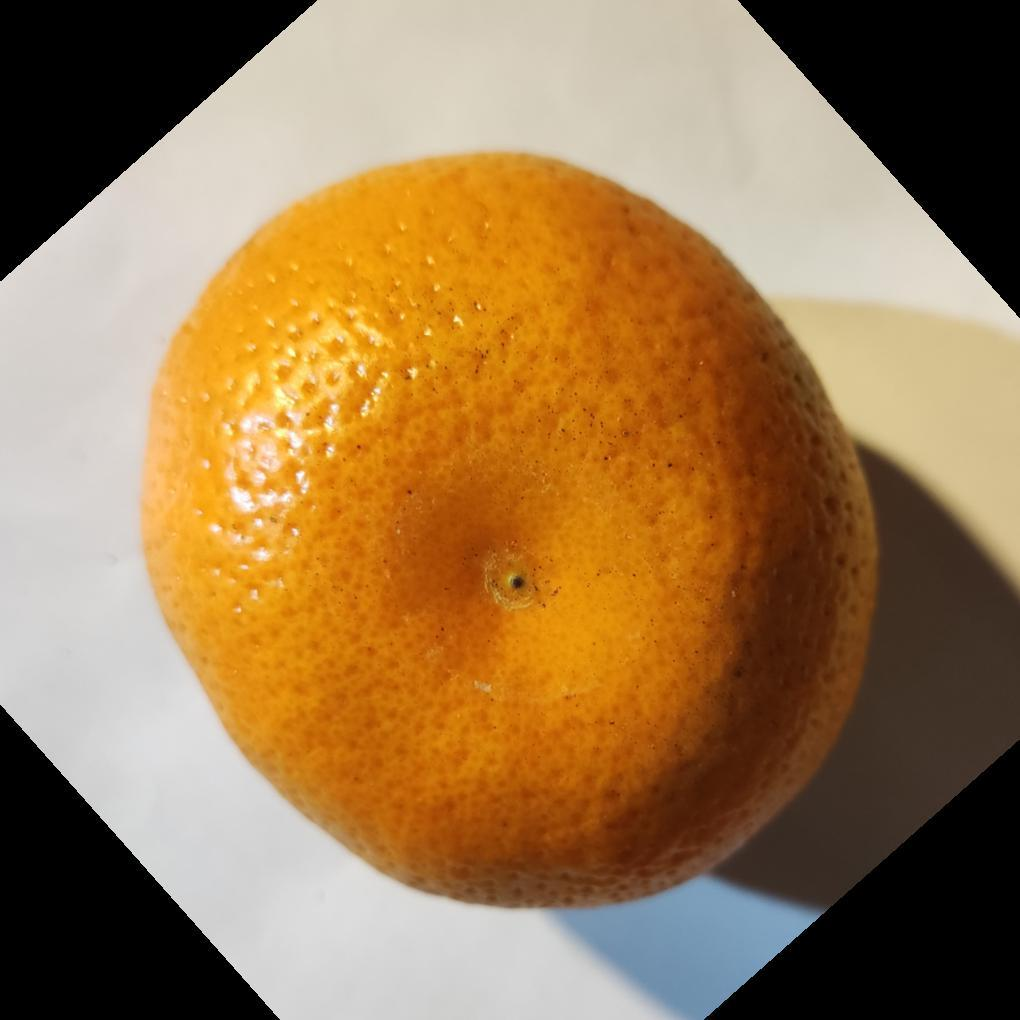FreshGuava: (135, 150, 883, 915)
